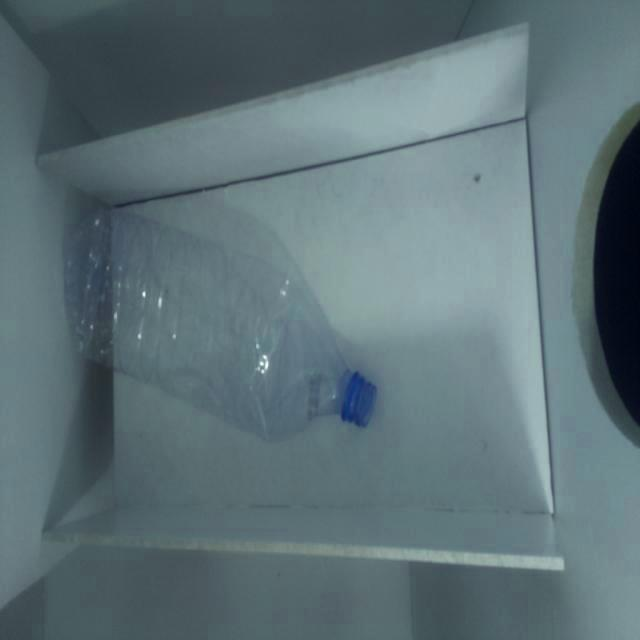bottle: (66, 212, 380, 443)
